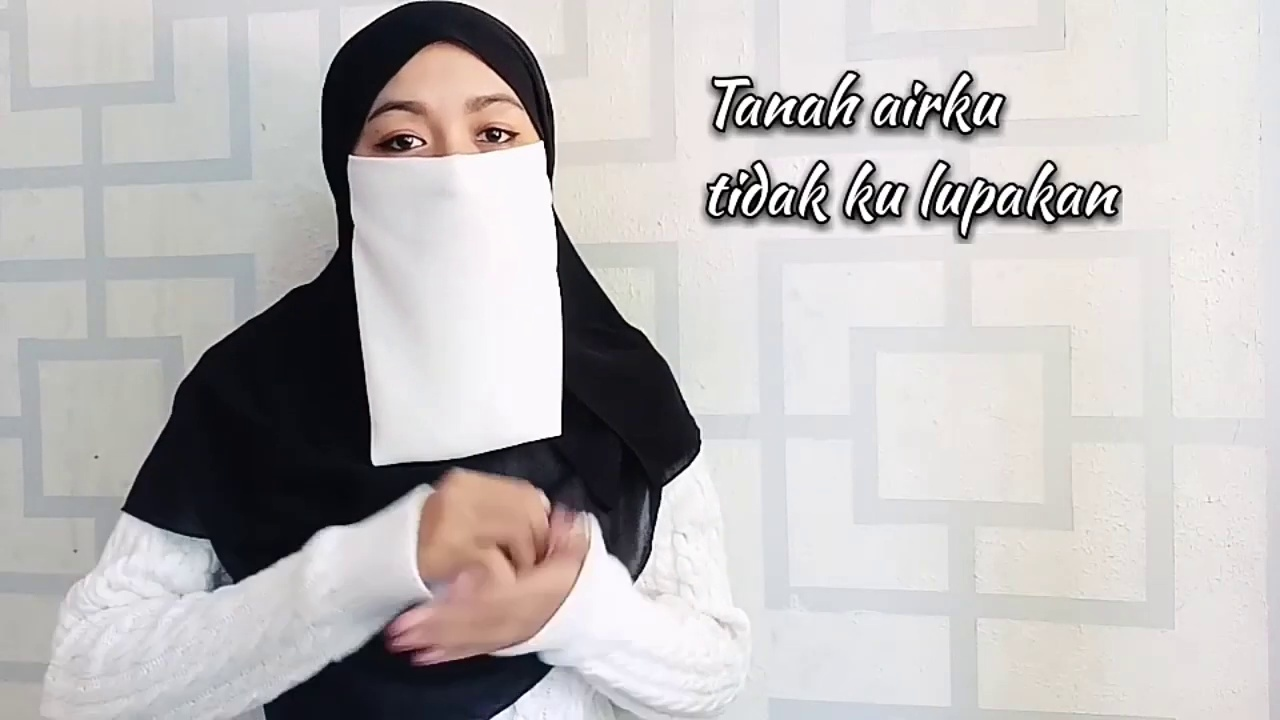tanah: (161, 380, 684, 720)
